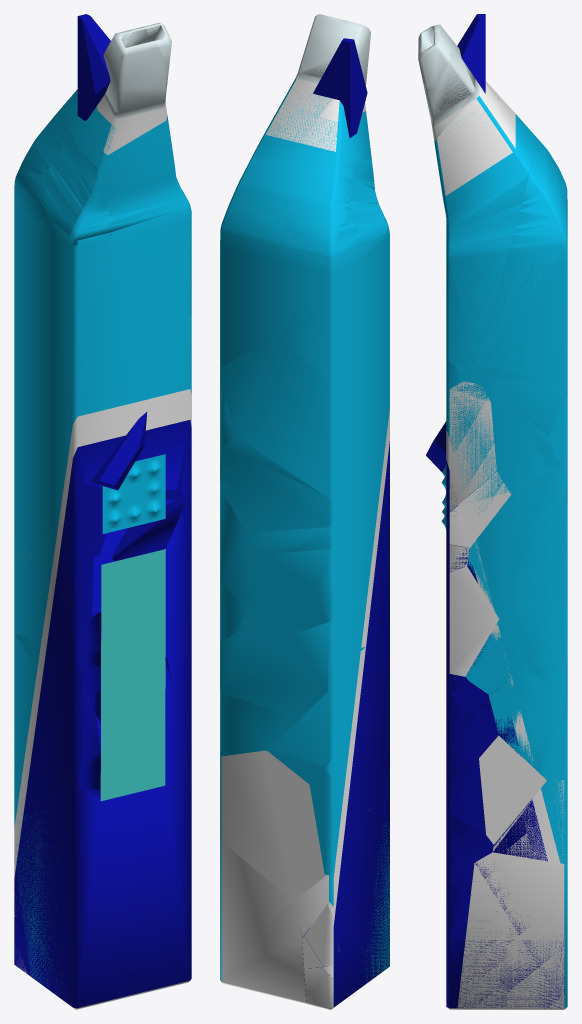
Rendered from VAPE-3_fractured.fbx.
3 views of the same model, side by side, from view 1: azimuth 30°, elevation 25°; view 2: azimuth 150°, elevation 25°; view 3: azimuth 270°, elevation 25° (orthographic). The views are drawn at different scales.
Visible parts, largest first — view 1: CIG1, CIG1_cell.049, CIG1_cell.059_cell, CIG1_cell.056_cell.006, CIG1_cell.056_cell, CIG1_cell.010, CIG1_cell.056_cell.004, CIG1_cell.005, CIG1_cell.022, CIG1_cell.063, CIG1_cell.045, CIG1_cell.059_cell.002 (+9 smaller); view 2: CIG1, CIG1_cell.042, CIG1_cell.058, CIG1_cell.027, CIG1_cell.039, CIG1_cell.051, CIG1_cell.059_cell.003, CIG1_cell.057, CIG1_cell.038, CIG1_cell.049, CIG1_cell.015, CIG1_cell.063 (+20 smaller); view 3: CIG1, CIG1_cell.049, CIG1_cell.027, CIG1_cell.038, CIG1_cell.011, CIG1_cell.037, CIG1_cell, CIG1_cell.002, CIG1_cell.022, CIG1_cell.015, CIG1_cell.031, CIG1_cell.042 (+22 smaller).
Boxes of the visible parts, box(x1,y1,x2,y2) form: CIG1: box(14, 23, 191, 1009); CIG1_cell.049: box(104, 115, 191, 314); CIG1_cell.059_cell: box(45, 144, 97, 235); CIG1_cell.056_cell.006: box(96, 85, 167, 154); CIG1_cell.056_cell: box(77, 14, 110, 120); CIG1_cell.010: box(111, 498, 187, 561); CIG1_cell.056_cell.004: box(118, 42, 168, 89); CIG1_cell.005: box(77, 484, 105, 556); CIG1_cell.022: box(90, 412, 147, 490); CIG1_cell.063: box(14, 820, 61, 986); CIG1_cell.045: box(77, 555, 93, 625); CIG1_cell.059_cell.002: box(69, 181, 113, 269); CIG1: box(220, 15, 389, 1007); CIG1_cell.042: box(220, 334, 354, 499); CIG1_cell.058: box(220, 750, 324, 900); CIG1_cell.027: box(220, 839, 308, 1004); CIG1_cell.039: box(220, 437, 333, 532); CIG1_cell.051: box(220, 630, 320, 714); CIG1_cell.059_cell.003: box(285, 117, 355, 203); CIG1_cell.057: box(268, 689, 333, 784); CIG1_cell.038: box(220, 157, 286, 246); CIG1_cell.049: box(250, 72, 330, 162); CIG1_cell.015: box(220, 689, 291, 756); CIG1_cell.063: box(294, 824, 389, 984); CIG1: box(420, 25, 567, 1009); CIG1_cell.049: box(434, 84, 530, 364); CIG1_cell.027: box(457, 852, 567, 1009); CIG1_cell.038: box(475, 153, 567, 384); CIG1_cell.011: box(467, 471, 567, 621); CIG1_cell.037: box(449, 381, 496, 511); CIG1_cell: box(479, 735, 546, 844); CIG1_cell.002: box(449, 566, 498, 676); CIG1_cell.022: box(426, 402, 554, 492); CIG1_cell.015: box(488, 680, 567, 779); CIG1_cell.031: box(465, 619, 536, 694); CIG1_cell.042: box(486, 377, 567, 436).
Bounding box in the file's own units: 200 × 1571 × 223.
